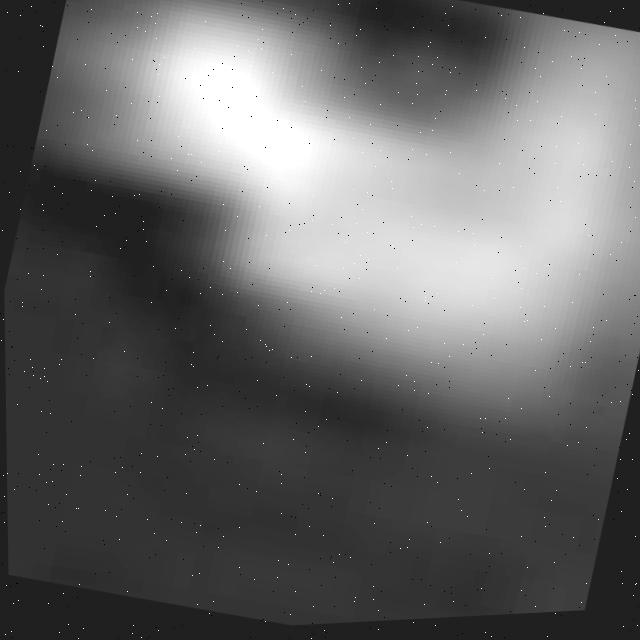person: (1, 1, 640, 498)
